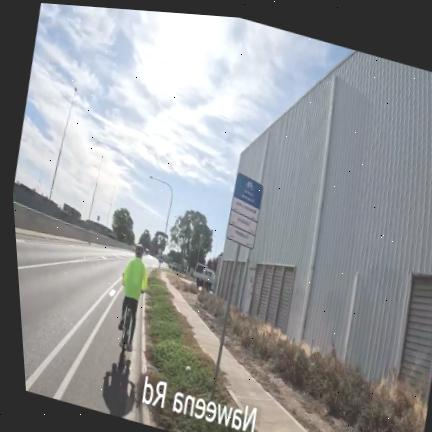Bike_Lane: (59, 295, 141, 423)
Bike_Sign: (227, 173, 263, 249)
